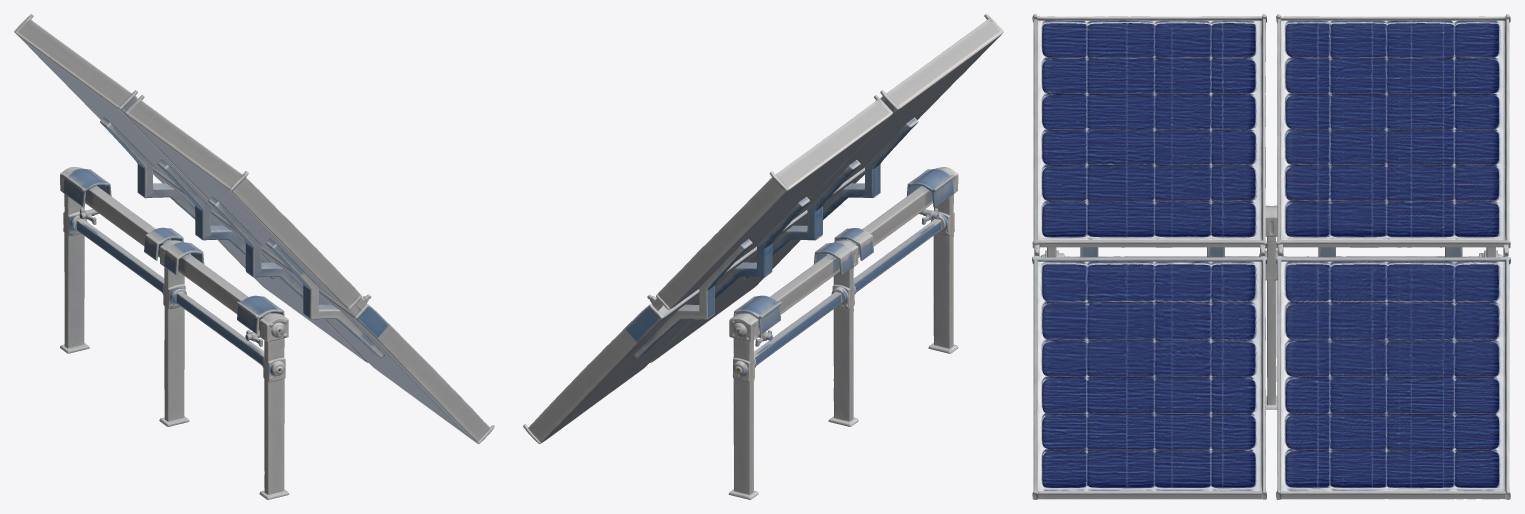
Rendered from panel-v1.glb.
3 views of the same model, side by side, from view 1: azimuth 30°, elevation 25°; view 2: azimuth 150°, elevation 25°; view 3: azimuth 270°, elevation 25° (orthographic). The views are drawn at different scales.
Visible parts, largest first — view 1: Object_01; view 2: Object_01; view 3: Object_01.
Part boxes in pixels (x1,y1,x2,y2): Object_01: [14, 14, 494, 499]; Object_01: [523, 14, 1003, 499]; Object_01: [1032, 14, 1510, 499].
Size of the model in its own units: 0.7022 by 0.8552 by 1.
1 material, 1 textured.
